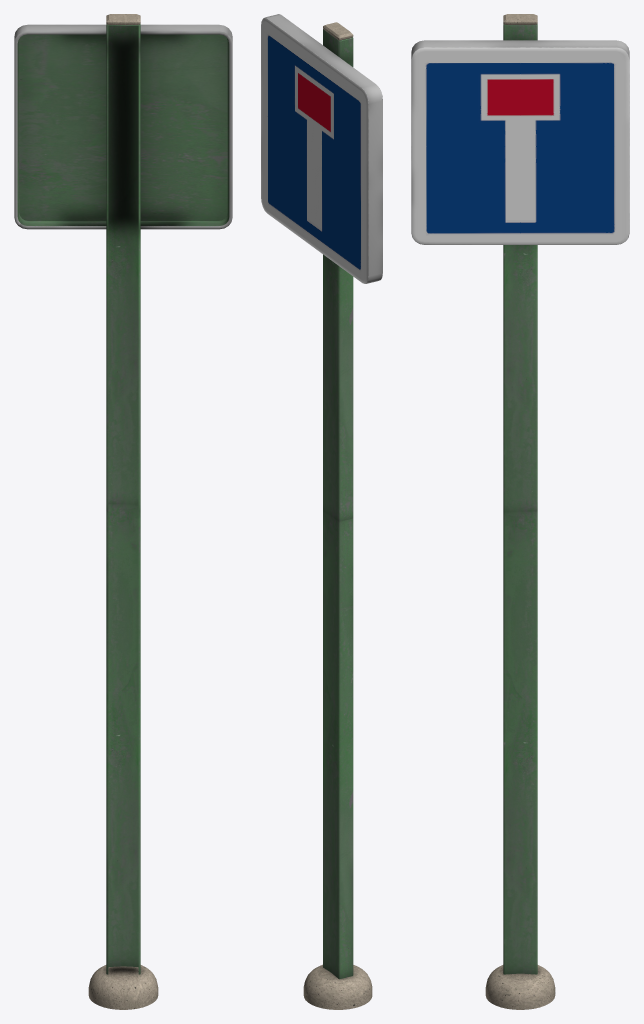
The model's file is Letrero_Piso.fbx.
The picture shows the model from 3 angles, left to right: view 1: azimuth 90°, elevation 25°; view 2: azimuth 210°, elevation 25°; view 3: azimuth 270°, elevation 25°; orthographic projection.
Parts seen in each view (by area): view 1: Letrero; view 2: Letrero; view 3: Letrero.
Part boxes in pixels (left/top/right/bottom): Letrero: left=14, top=14, right=232, bottom=1009; Letrero: left=261, top=14, right=382, bottom=1009; Letrero: left=411, top=14, right=629, bottom=1009.
Size of the model in its own units: 11.29 by 175 by 35.38.
1 material, 1 textured.
